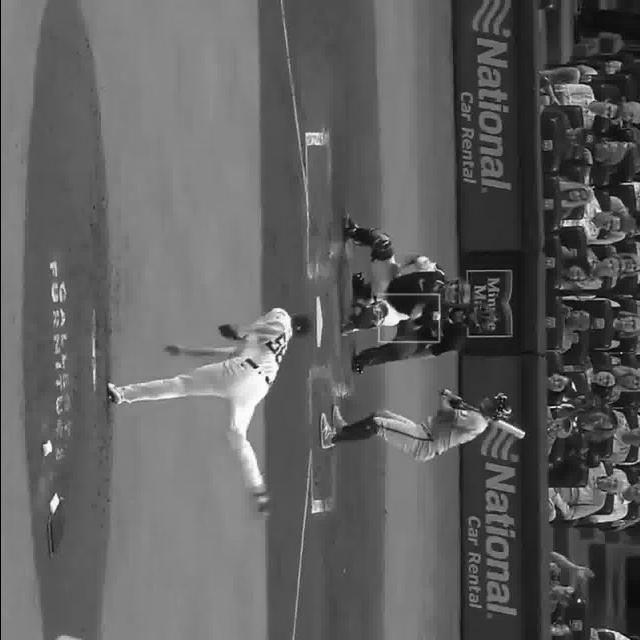base: (312, 296, 324, 346)
baseball: (432, 310, 438, 320)
baseball_glove: (418, 296, 452, 332), (215, 325, 242, 341)
bat: (437, 388, 530, 444)
shoe: (102, 381, 124, 407), (318, 413, 334, 448), (342, 210, 356, 242), (333, 404, 347, 430), (248, 496, 264, 516), (340, 319, 354, 338)
